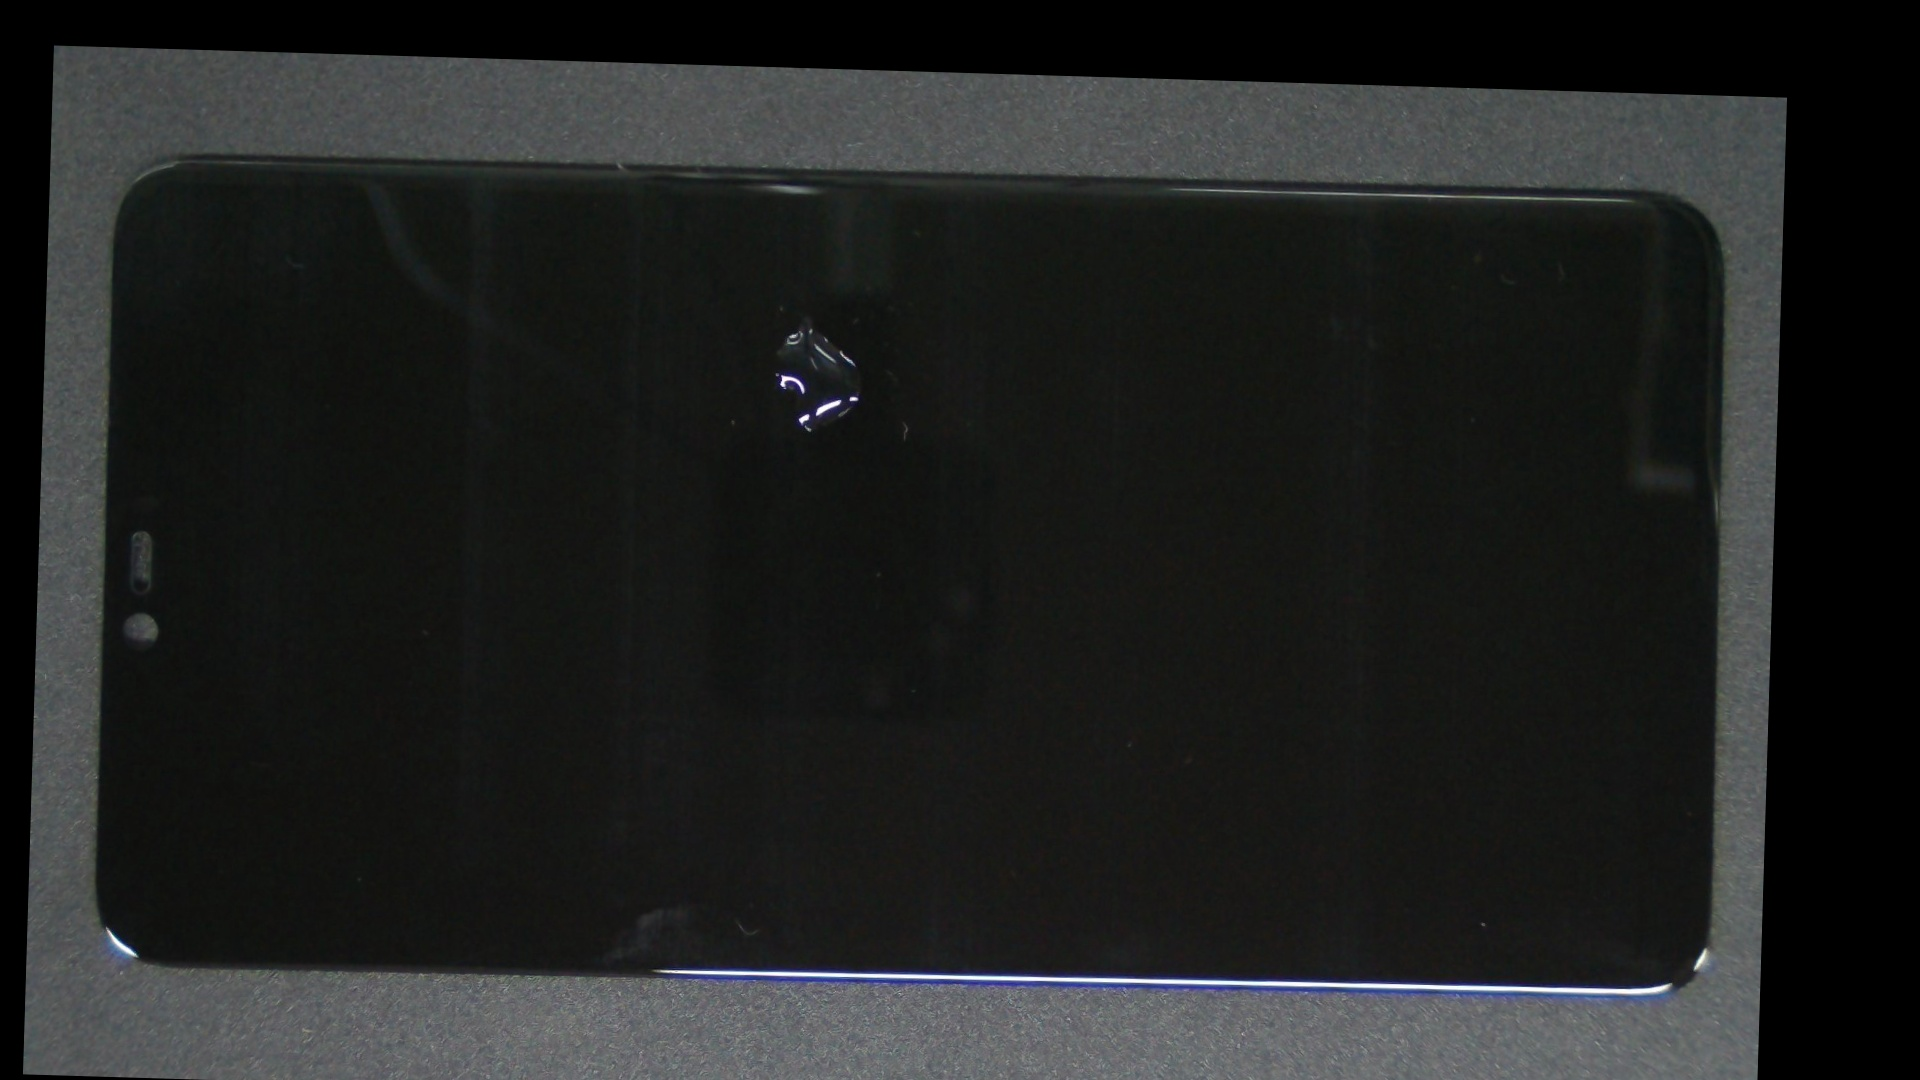oil: (423, 179, 1189, 451)
